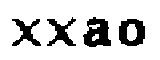a: (84, 15, 117, 51)
o: (116, 16, 147, 49)
x: (43, 16, 78, 50), (10, 16, 43, 50)
